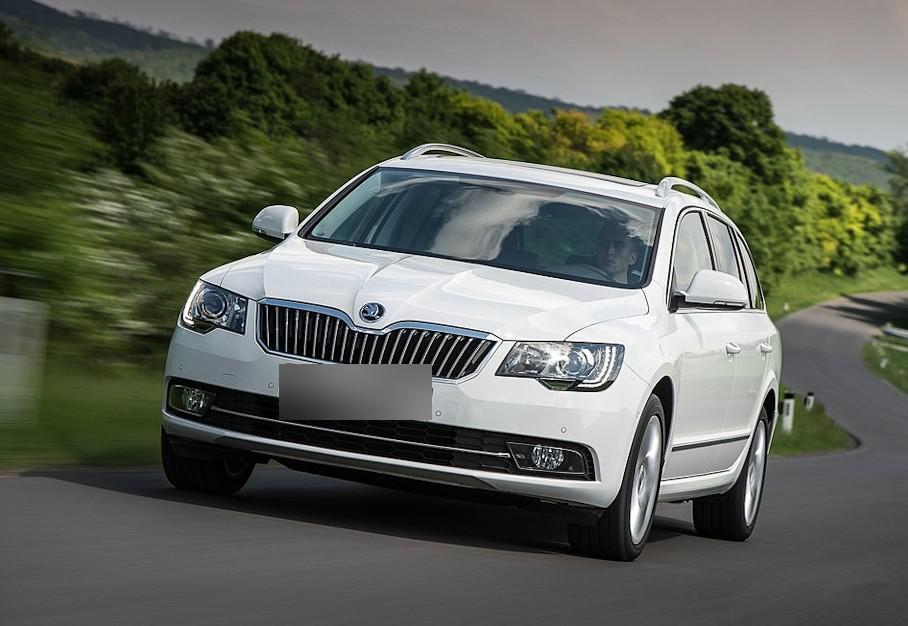Wagon: (160, 142, 782, 563)
